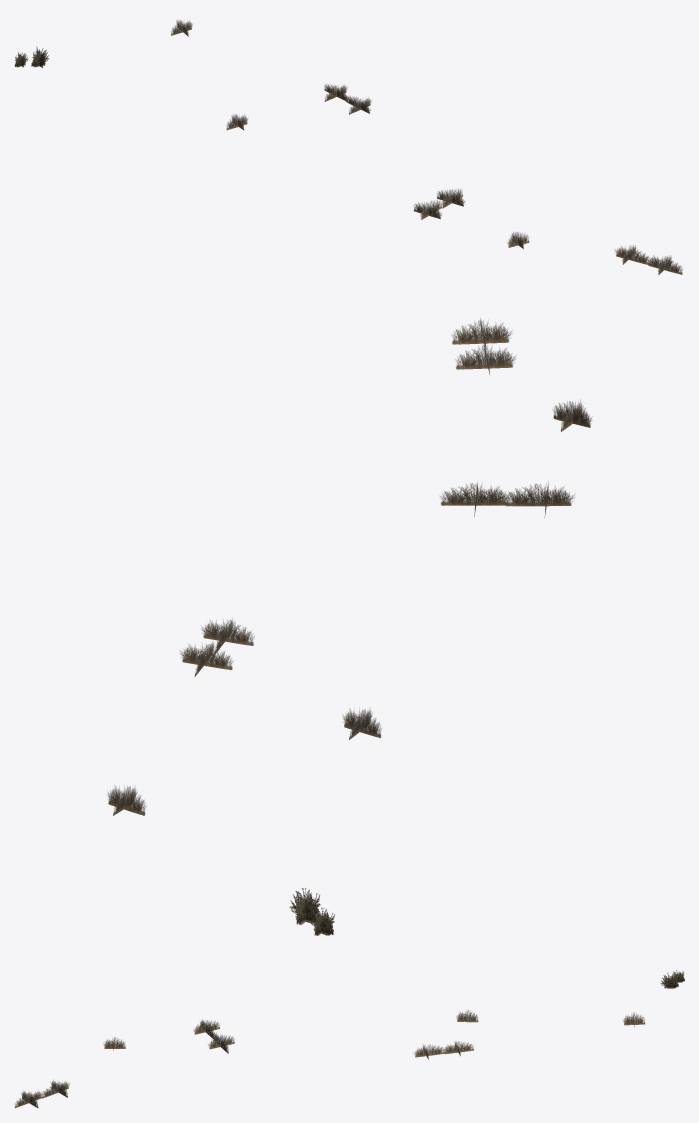
The model's file is 0707worlddeserttransparent_worlddeserttransparentmaterial_0_lev.glb.
3 views of the same model, one above another, from view 1: azimuth 30°, elevation 25°; view 2: azimuth 150°, elevation 25°; view 3: azimuth 270°, elevation 25° (orthographic). The views are drawn at different scales.
Visible parts, largest first — view 1: 0707worlddeserttransparent_worlddeserttransparentmaterial_0_; view 2: 0707worlddeserttransparent_worlddeserttransparentmaterial_0_; view 3: 0707worlddeserttransparent_worlddeserttransparentmaterial_0_.
Boxes of the visible parts, x1=… form: 0707worlddeserttransparent_worlddeserttransparentmaterial_0_: x1=14, y1=20, x2=683, y2=275; 0707worlddeserttransparent_worlddeserttransparentmaterial_0_: x1=107, y1=318, x2=592, y2=935; 0707worlddeserttransparent_worlddeserttransparentmaterial_0_: x1=14, y1=970, x2=684, y2=1108.
Bounding box in the file's own units: 11.11 × 1.32 × 24.61.
Materials: 1 (1 with a texture image).
